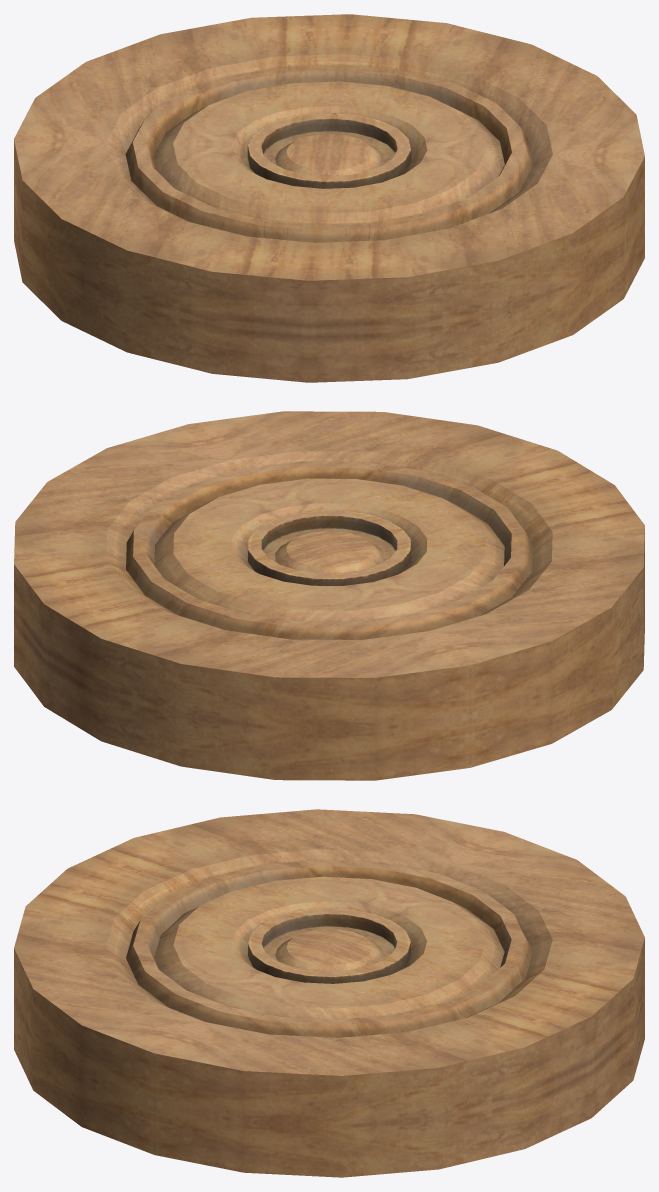
File: white.glb
The picture shows the model from 3 angles, top to bottom: view 1: azimuth 30°, elevation 25°; view 2: azimuth 150°, elevation 25°; view 3: azimuth 270°, elevation 25°; orthographic projection.
Parts seen in each view (by area): view 1: Cylinder.004_10; view 2: Cylinder.004_10; view 3: Cylinder.004_10.
Boxes of the visible parts, x1=… form: Cylinder.004_10: x1=14, y1=14, x2=644, y2=382; Cylinder.004_10: x1=14, y1=411, x2=644, y2=780; Cylinder.004_10: x1=14, y1=809, x2=644, y2=1177.
Size of the model in its own units: 0.1838 by 0.0327 by 0.1838.
1 material, 1 textured.
